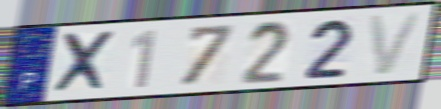1: (130, 27, 160, 90)
2: (299, 14, 360, 83), (237, 18, 295, 85)
7: (178, 21, 236, 88)
V: (366, 10, 426, 78)
X: (50, 29, 118, 96)
